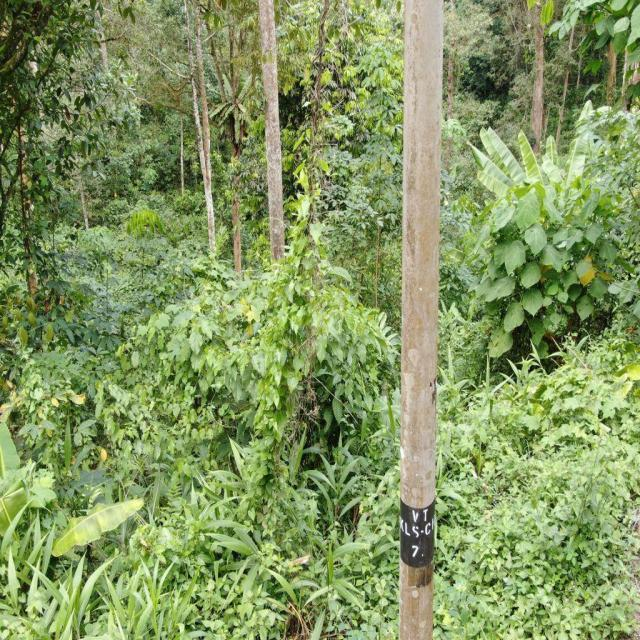critical vegetation: (236, 20, 330, 512)
